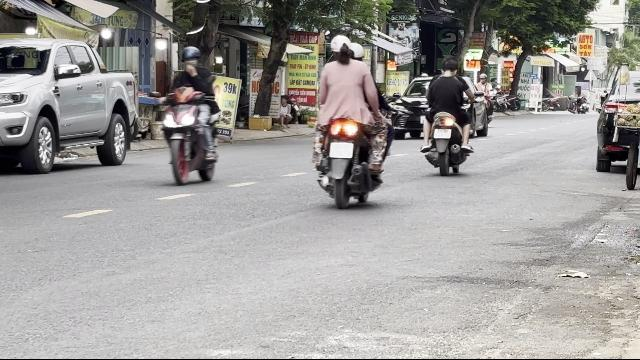helmet: (328, 34, 354, 62), (180, 46, 202, 71), (350, 42, 364, 60)
licenseplate: (328, 142, 352, 158), (434, 128, 451, 138)
motorcyclist: (308, 33, 394, 207), (156, 44, 224, 186), (418, 57, 476, 175)
nohelmet: (440, 57, 458, 75)
